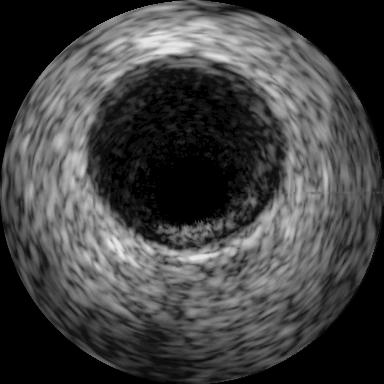Lumen: (155, 149, 231, 226)
